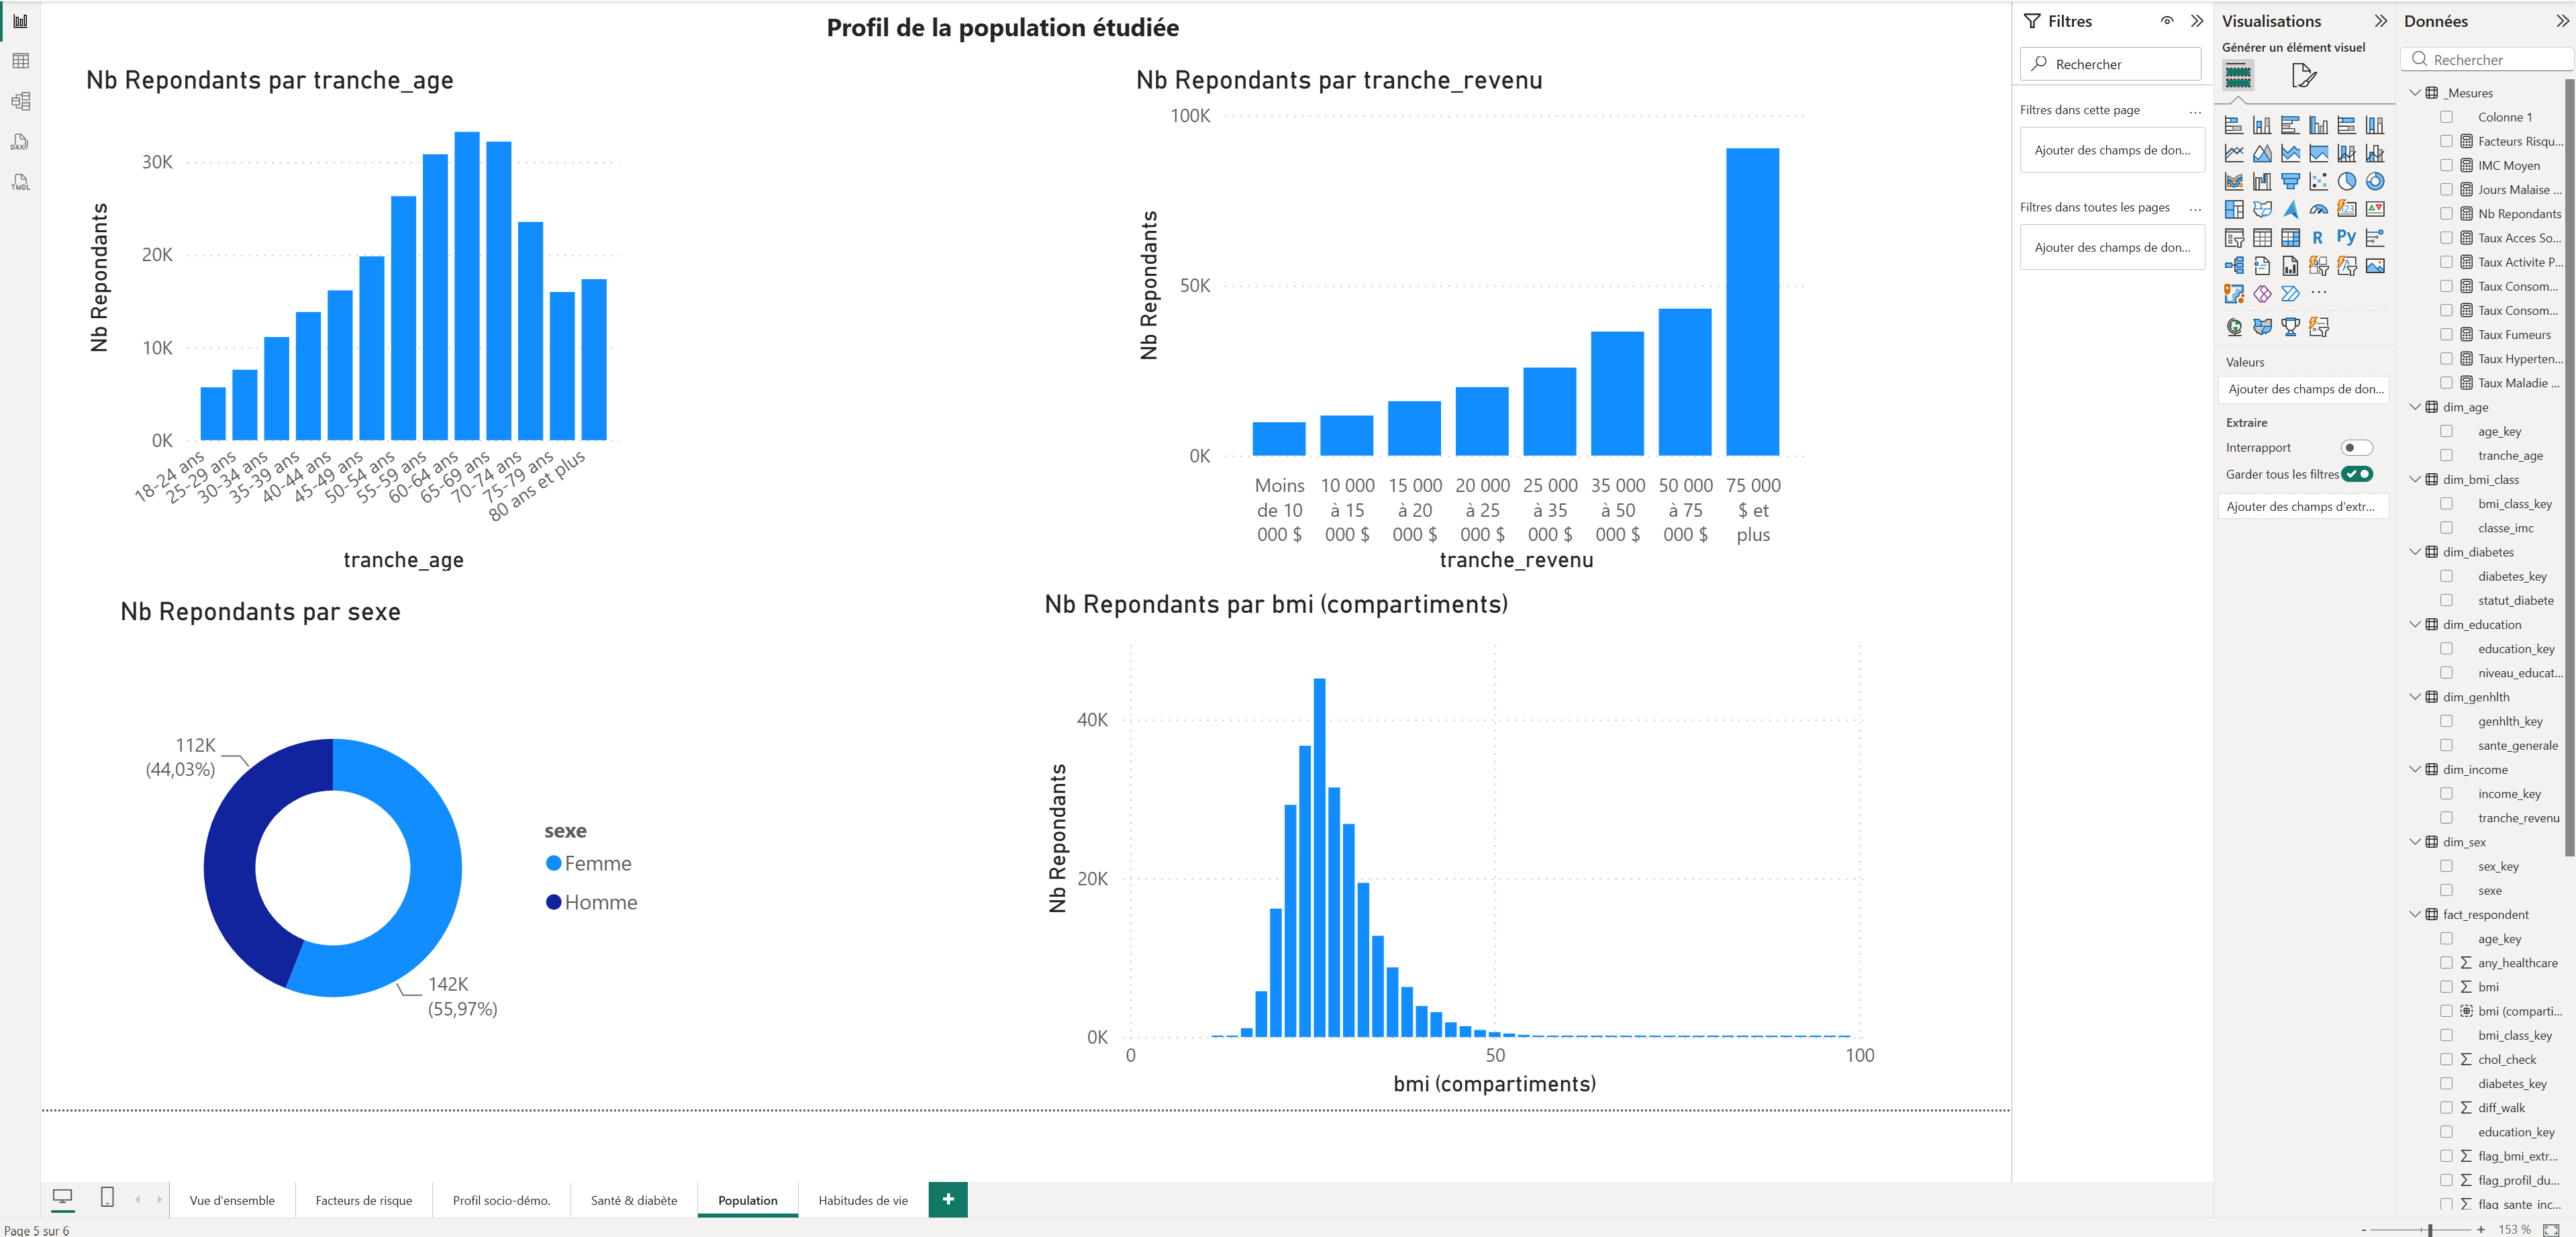

What the dashboard file says about the page in this screenshot:
{"tool":"powerbi","page":{"name":"Population","canvas":[1280,720],"ordinal":4},"visuals":[{"type":"clusteredColumnChart","fields":{"Category":["dim_age.tranche_age"],"Y":["_Mesures.Nb Repondants"]},"box":[24.2,40.5,356.4,334.2],"z":0},{"type":"donutChart","fields":{"Category":["dim_sex.sexe"],"Y":["_Mesures.Nb Repondants"]},"box":[46.4,385.8,355.8,334.2],"z":1000},{"type":"clusteredColumnChart","fields":{"Category":["dim_income.tranche_revenu"],"Y":["_Mesures.Nb Repondants"]},"box":[706.3,40.5,446,334.2],"z":2000},{"type":"clusteredColumnChart","fields":{"Category":["fact_respondent.bmi (compartiments)"],"Y":["_Mesures.Nb Repondants"]},"box":[646.8,381.3,549.3,334.2],"z":3000},{"type":"textbox","box":[446.6,0,356.4,35.3],"z":3001}]}

Visuals, with their boxes on the page's 1280x720 design canvas (x1, y1, x2, y2). These are canvas units, not pixel positions in the 2576x1237 screenshot, which may show the page scaled, cropped or inside an application window:
clusteredColumnChart - dim_age.tranche_age x _Mesures.Nb Repondants: l=24, t=40, r=381, b=375
donutChart - dim_sex.sexe x _Mesures.Nb Repondants: l=46, t=386, r=402, b=720
clusteredColumnChart - dim_income.tranche_revenu x _Mesures.Nb Repondants: l=706, t=40, r=1152, b=375
clusteredColumnChart - fact_respondent.bmi (compartiments) x _Mesures.Nb Repondants: l=647, t=381, r=1196, b=716
textbox: l=447, t=0, r=803, b=35
